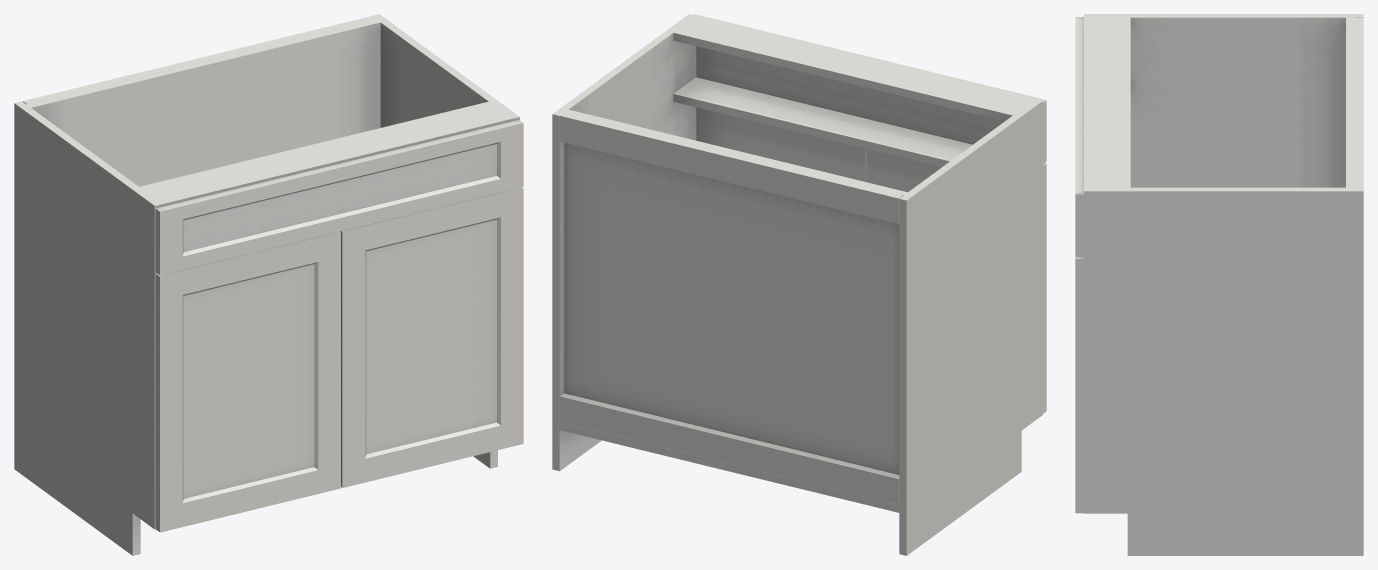
File: sink-base-tip-out-doors-on.glb
The picture shows the model from 3 angles, left to right: view 1: azimuth 30°, elevation 25°; view 2: azimuth 150°, elevation 25°; view 3: azimuth 270°, elevation 25°; orthographic projection. The views are drawn at different scales.
Parts seen in each view (by area): view 1: part_6, part_0; view 2: part_0, part_6; view 3: part_0, part_6.
Part boxes in pixels (<box>): part_6: <box>155,120,523,532</box>; part_0: <box>14,14,519,555</box>; part_0: <box>552,14,1042,555</box>; part_6: <box>692,14,1046,413</box>; part_0: <box>1084,14,1363,555</box>; part_6: <box>1075,17,1083,513</box>.
Size of the model in its own units: 0.9144 by 0.8763 by 0.6287.
Materials: 2 (2 with a texture image).
